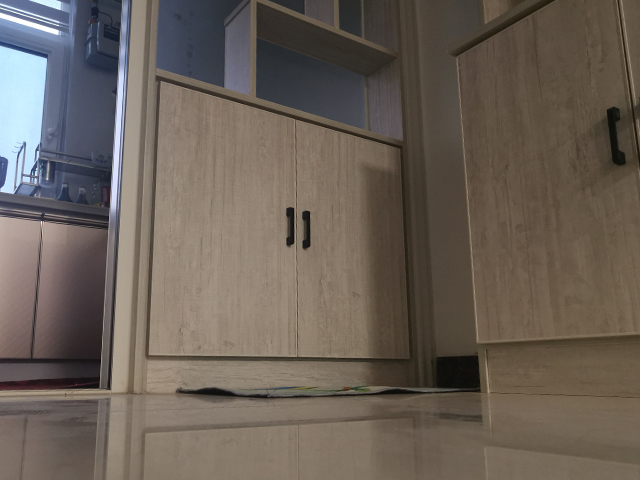cabinet: (136, 75, 423, 388), (446, 1, 640, 396), (1, 192, 112, 384)
carpet: (174, 383, 482, 400), (1, 377, 100, 391)
